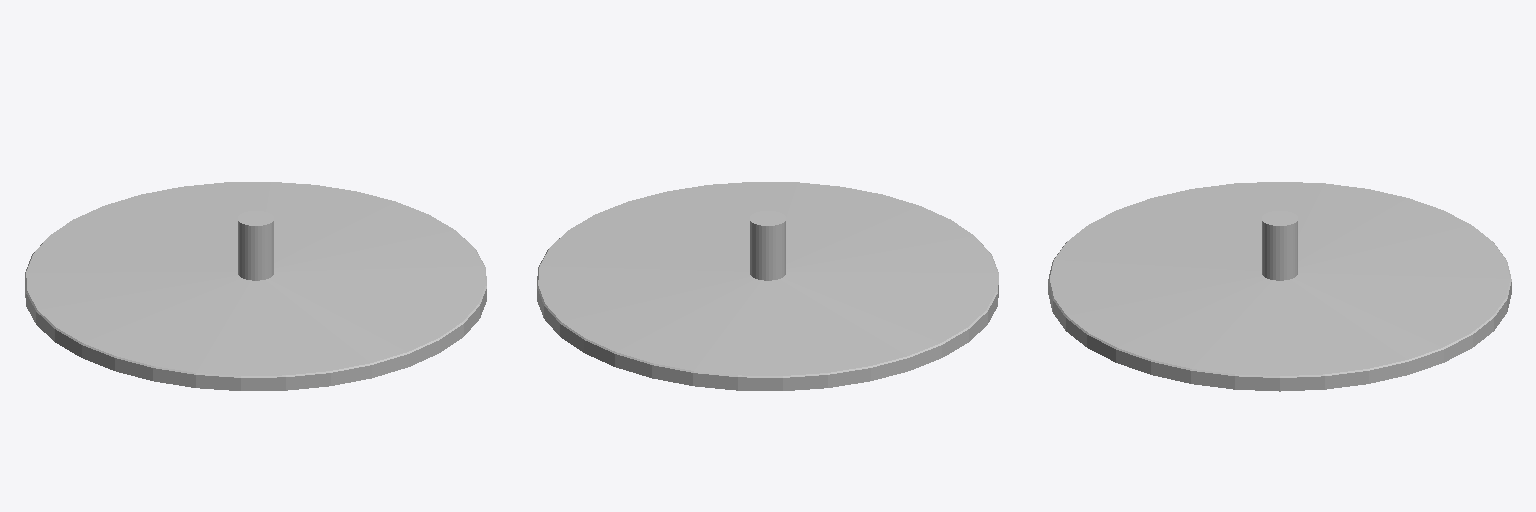
The model's file is rotation2Axis_base.obj.
3 views of the same model, side by side, from view 1: azimuth 30°, elevation 25°; view 2: azimuth 150°, elevation 25°; view 3: azimuth 270°, elevation 25° (orthographic).
Visible parts, largest first — view 1: Circle; view 2: Circle; view 3: Circle.
Boxes of the visible parts, x1=… form: Circle: x1=25, y1=182, x2=486, y2=390; Circle: x1=537, y1=182, x2=998, y2=390; Circle: x1=1048, y1=182, x2=1511, y2=391.
Bounding box in the file's own units: 2 × 0.3576 × 2.